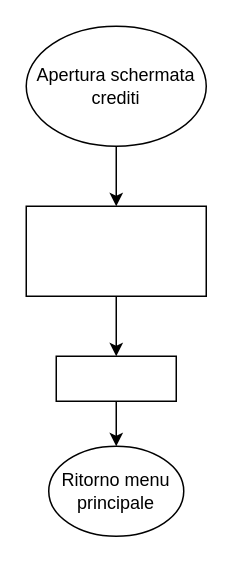
The diagram is 233 pixels wide and 563 high, and some of its shapes have lost their labels. Here are the shapes that lost their labels. From the top down, the centre of each, then its label:
(115,250): Visualizza crediti
(115,378): Indietro
